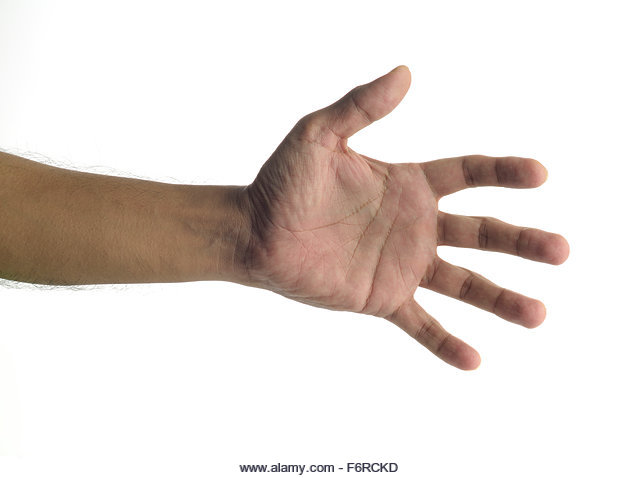non-diseased: (300, 63, 577, 387)
